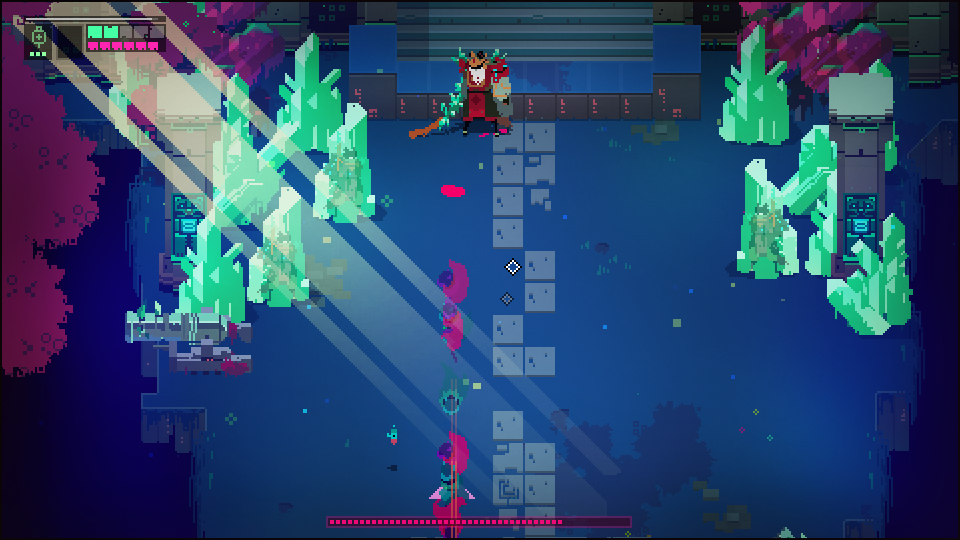hanged_man: (431, 43, 516, 150)
player: (429, 497, 474, 540)
